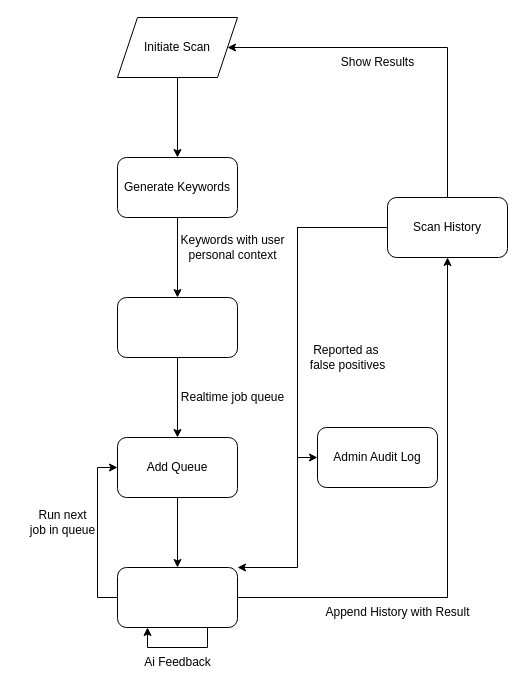
Image size: 525x695. Some labels were removed from this diagram. Each missing label, with the centre of its shape:
Run Ai Model: (x=177, y=597)
Scrape: (x=177, y=327)
